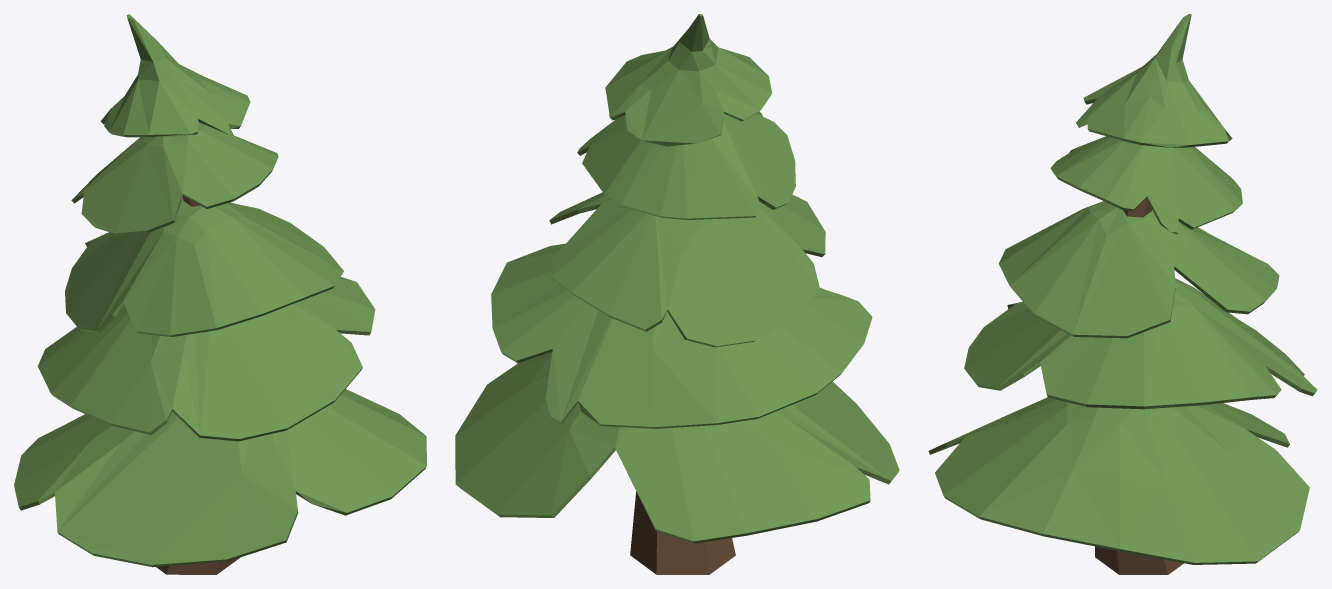
The model's file is PineTree_1.glb.
The picture shows the model from 3 angles, left to right: view 1: azimuth 30°, elevation 25°; view 2: azimuth 150°, elevation 25°; view 3: azimuth 270°, elevation 25°; orthographic projection. The views are drawn at different scales.
Parts seen in each view (by area): view 1: PineTree_1; view 2: PineTree_1; view 3: PineTree_1.
Boxes of the visible parts, bbox=[...] form: PineTree_1: bbox=[14, 14, 426, 574]; PineTree_1: bbox=[455, 14, 899, 574]; PineTree_1: bbox=[928, 14, 1317, 574].
Size of the model in its own units: 1.96 by 2.7 by 1.82.
